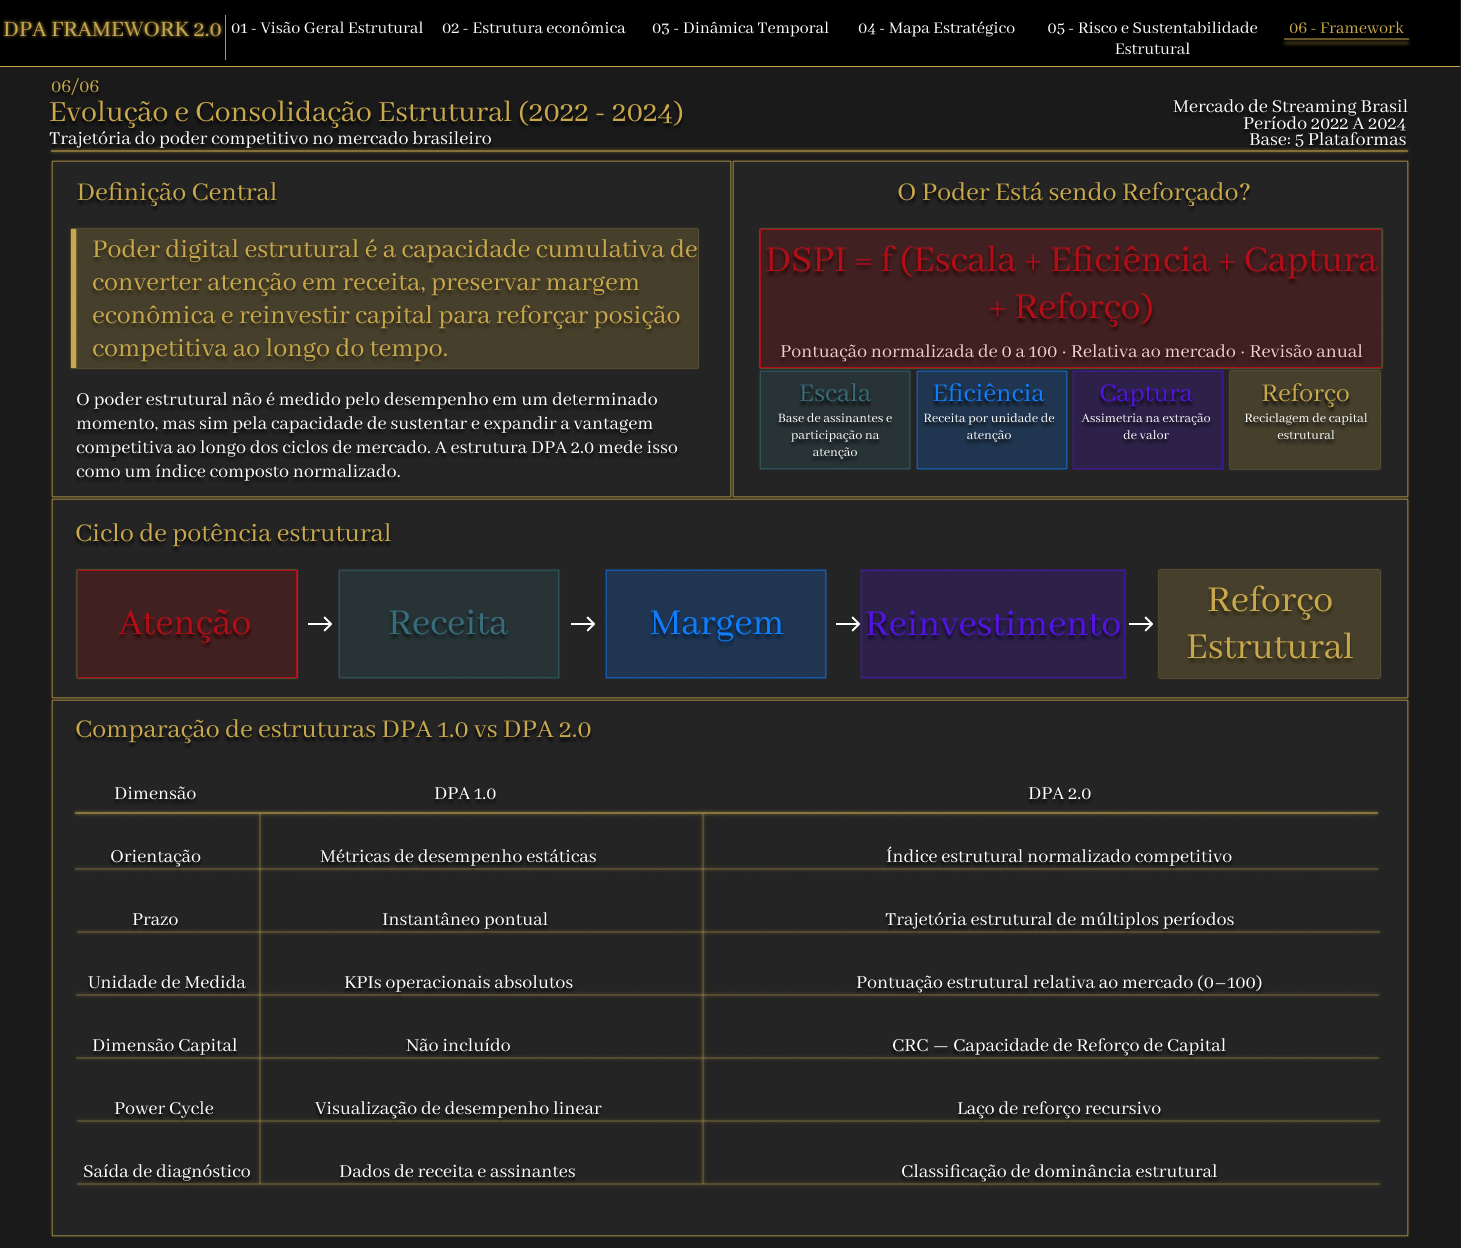

Layout of this report page (visuals, bound fields, positions):
{"tool":"powerbi","page":{"name":"Framework","canvas":[1458,1248],"ordinal":5},"visuals":[{"type":"pageNavigator","box":[225.8,11.1,1232.2,45.6],"z":0}]}

Visuals, with their boxes in screenshot pixels (x1, y1, x2, y2), scaled from the page's 1458x1248 canvas onto the 1461x1248 screenshot:
pageNavigator: [226, 11, 1460, 57]
